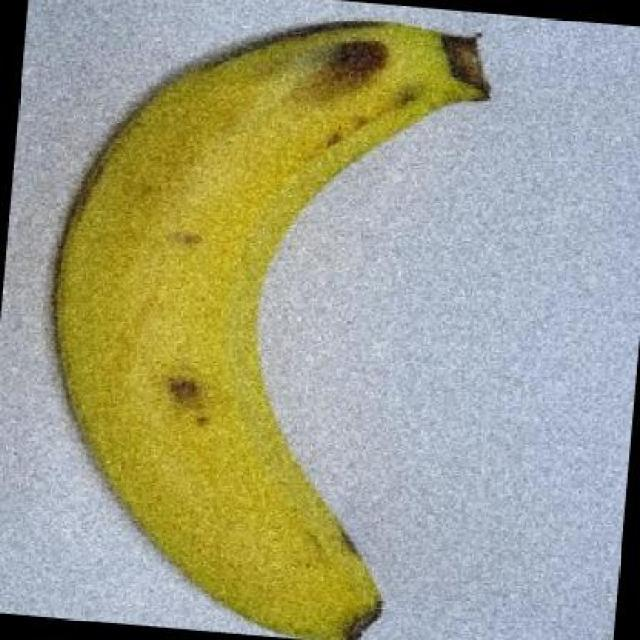ripe: (36, 20, 516, 640)
